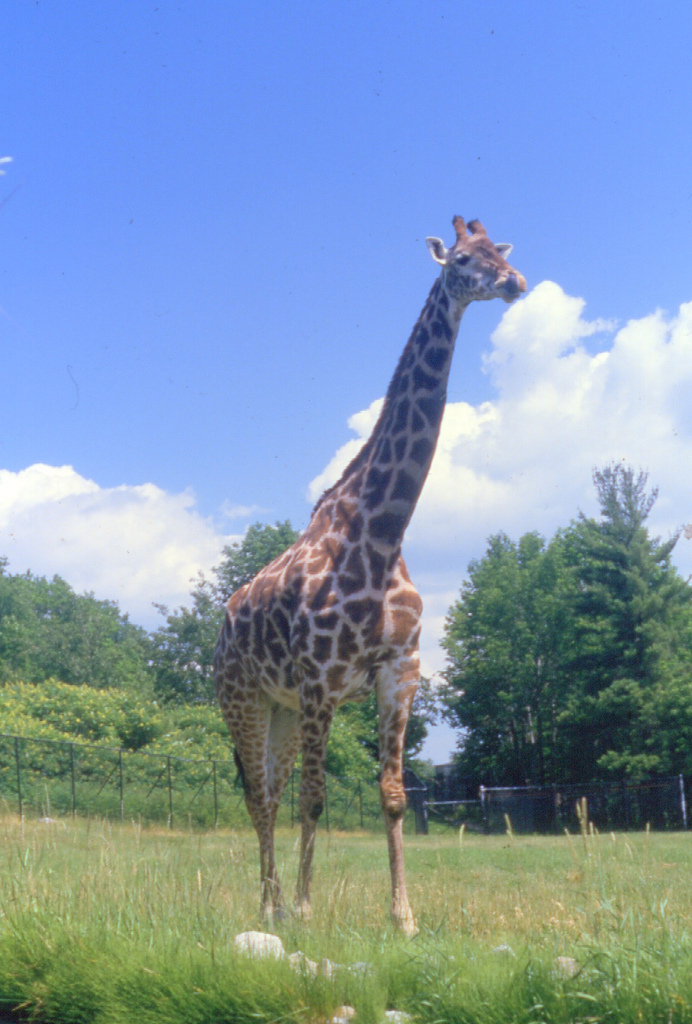giraffe: (199, 204, 537, 914)
